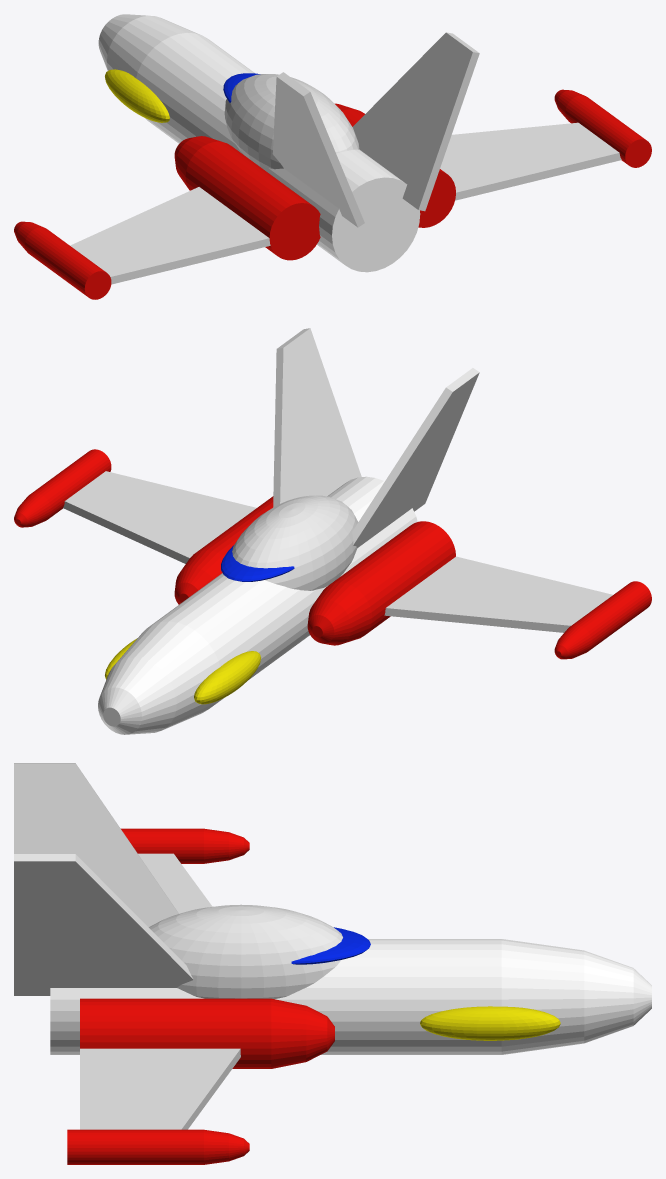
Rendered from Player.glb.
3 views of the same model, one above another, from view 1: azimuth 30°, elevation 25°; view 2: azimuth 150°, elevation 25°; view 3: azimuth 270°, elevation 25° (orthographic). The views are drawn at different scales.
Parts seen in each view (by area): view 1: 本体, Wing, 尾翼, タンク, Windの端, コックピット, 発射口; view 2: 本体, Wing, 尾翼, タンク, コックピット, Windの端, 発射口, コックピット.001; view 3: 本体, 尾翼, タンク, Wing, コックピット, Windの端, 発射口, コックピット.001.
Part boxes in pixels (x1,y1,x2,y2): 本体: (98,14,420,272); Wing: (70,122,621,284); 尾翼: (272,32,479,227); タンク: (174,103,455,260); Windの端: (14,89,651,299); コックピット: (224,74,359,169); 発射口: (105,69,169,122); 本体: (98,476,417,734); Wing: (63,471,612,632); 尾翼: (273,328,479,547); タンク: (174,496,455,645); コックピット: (232,495,358,590); Windの端: (14,449,651,659); 発射口: (105,638,260,704); コックピット.001: (221,545,294,581); 本体: (50,939,651,1054); 尾翼: (14,763,193,995); タンク: (80,998,334,1068); Wing: (80,853,240,1129); コックピット: (149,904,342,999); Windの端: (67,828,249,1164); 発射口: (420,1006,560,1040); コックピット.001: (291,927,370,964).
Bounding box in the file's own units: 3.82 × 1.36 × 3.26.
